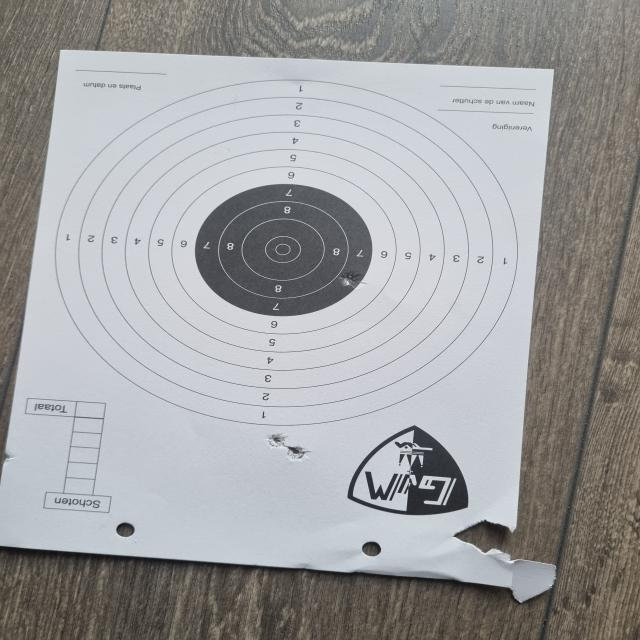8: (336, 271, 367, 289)
Black Contour: (194, 185, 374, 315)
Target: (56, 76, 518, 428)
hole: (286, 446, 312, 459), (266, 432, 286, 448)
